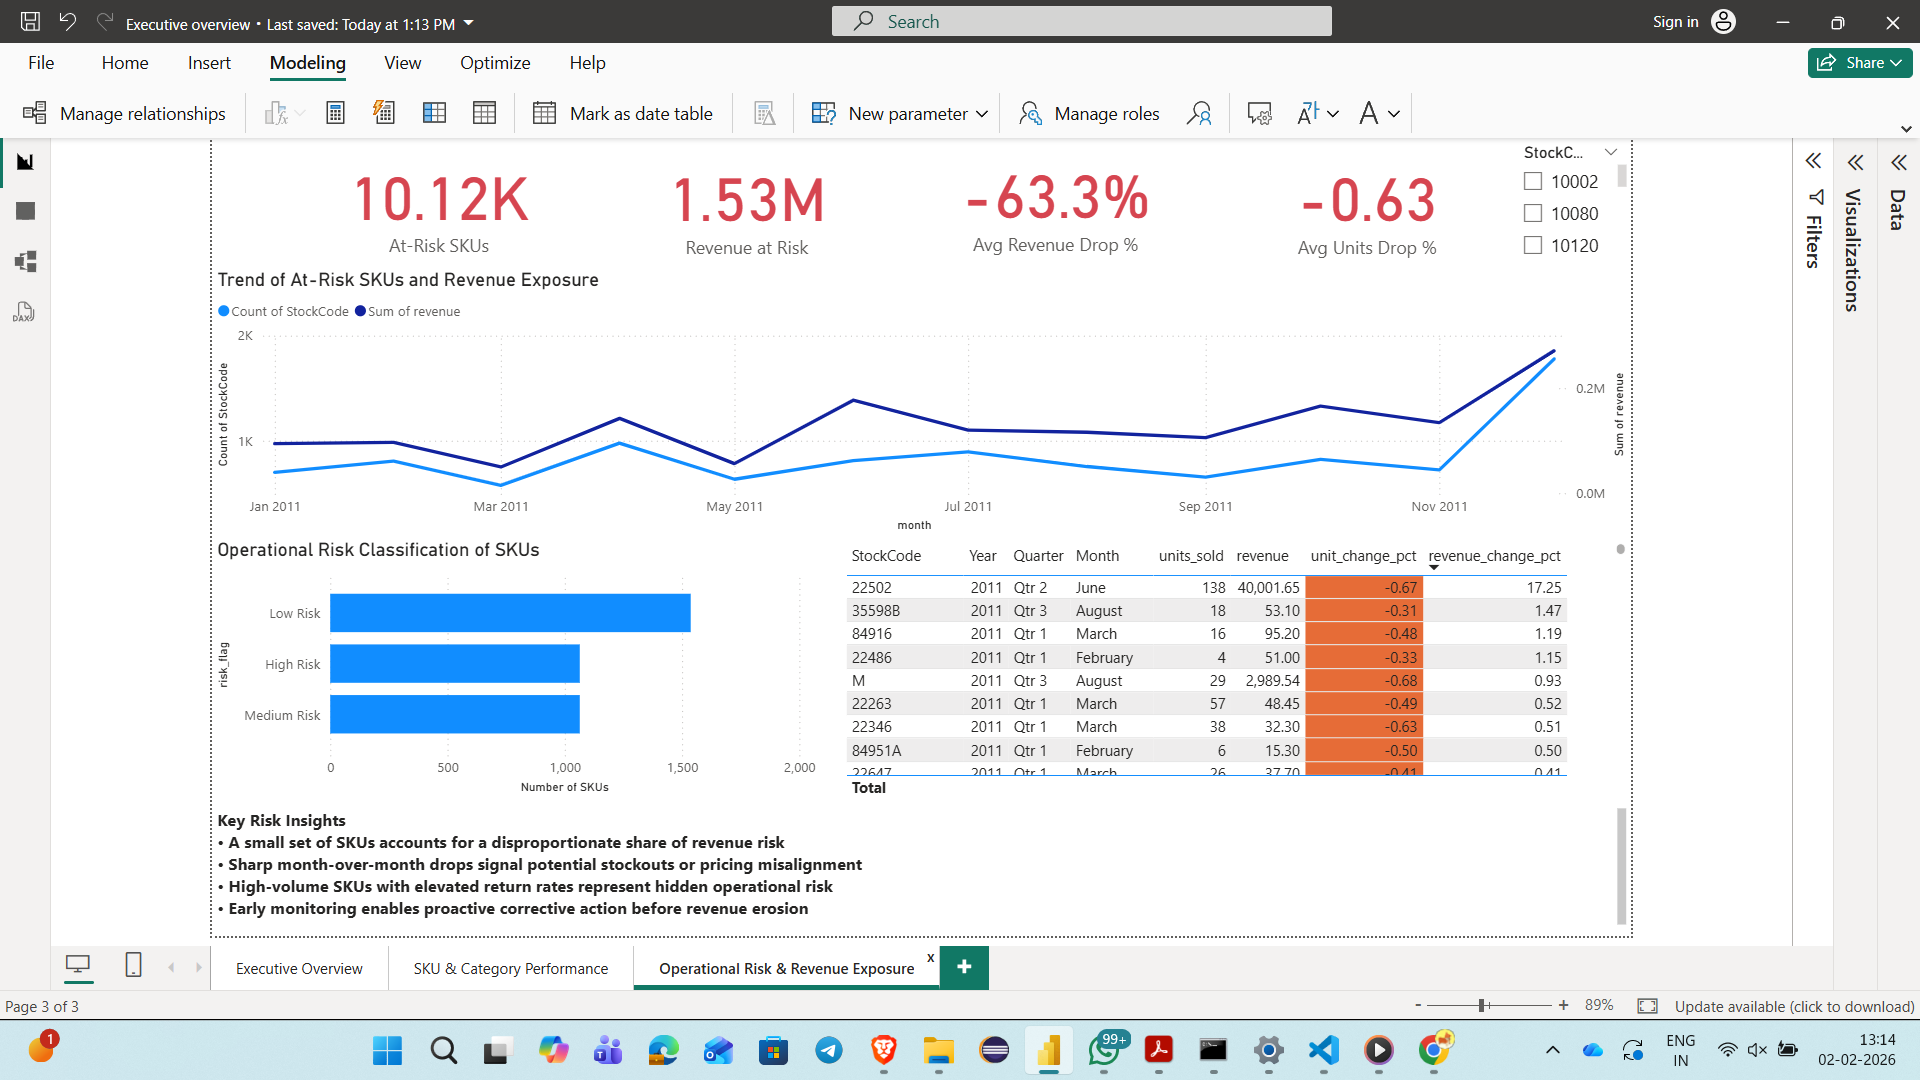

Layout of this report page (visuals, bound fields, positions):
{"tool":"powerbi","page":{"name":"Operational Risk & Revenue Exposure","canvas":[1280,720],"ordinal":2},"visuals":[{"type":"card","fields":{"Values":["CountNonNull(executive_sku_alerts.StockCode)"]},"box":[89.1,0,231.6,117.1],"z":0},{"type":"card","fields":{"Values":["Sum(executive_sku_alerts.revenue)"]},"box":[383.1,2.5,198.5,115.8],"z":1000},{"type":"card","fields":{"Values":["Avg(executive_sku_alerts.revenue_change_pct)"]},"box":[652.9,0,216.3,114.5],"z":2000},{"type":"card","fields":{"Values":["Avg(executive_sku_alerts.unit_change_pct)"]},"box":[945.6,1.3,192.2,117.1],"z":3000},{"type":"tableEx","fields":{"Values":["executive_sku_alerts.StockCode","executive_sku_alerts.month.Variation.Date Hierarchy.Year","executive_sku_alerts.month.Variation.Date Hierarchy.Quarter","executive_sku_alerts.month.Variation.Date Hierarchy.Month","executive_sku_alerts.units_sold","executive_sku_alerts.revenue","executive_sku_alerts.unit_change_pct","executive_sku_alerts.revenue_change_pct"]},"box":[566.3,360.2,713.9,239.3],"z":4000},{"type":"lineChart","title":"Trend of At-Risk SKUs and Revenue Exposure","fields":{"Y":["CountNonNull(executive_sku_alerts.StockCode)"],"Y2":["Sum(executive_sku_alerts.revenue)"],"Category":["executive_sku_alerts.month"]},"box":[0,117.1,1280.3,243.1],"z":5000},{"type":"barChart","title":"Operational Risk Classification of SKUs","fields":{"Category":["operational_risk_metrics.risk_flag"],"Y":["CountNonNull(operational_risk_metrics.sku)"]},"box":[0,360.2,549.8,235.4],"z":6000},{"type":"slicer","fields":{"Values":["executive_sku_alerts.StockCode"]},"box":[1169.5,0,110.7,117.1],"z":7000},{"type":"textbox","box":[0,599.4,1280.3,120.9],"z":7002}]}

Visuals, with their boxes on the page's 1280x720 design canvas (x1, y1, x2, y2). These are canvas units, not pixel positions in the 1920x1080 screenshot, which may show the page scaled, cropped or inside an application window:
card - CountNonNull(executive_sku_alerts.StockCode): left=89, top=0, right=321, bottom=117
card - Sum(executive_sku_alerts.revenue): left=383, top=2, right=582, bottom=118
card - Avg(executive_sku_alerts.revenue_change_pct): left=653, top=0, right=869, bottom=114
card - Avg(executive_sku_alerts.unit_change_pct): left=946, top=1, right=1138, bottom=118
tableEx - executive_sku_alerts.StockCode x executive_sku_alerts.month.Variation.Date Hierarchy.Year: left=566, top=360, right=1280, bottom=600
"Trend of At-Risk SKUs and Revenue Exposure" lineChart: left=0, top=117, right=1280, bottom=360
"Operational Risk Classification of SKUs" barChart: left=0, top=360, right=550, bottom=596
slicer - executive_sku_alerts.StockCode: left=1170, top=0, right=1280, bottom=117
textbox: left=0, top=599, right=1280, bottom=720
